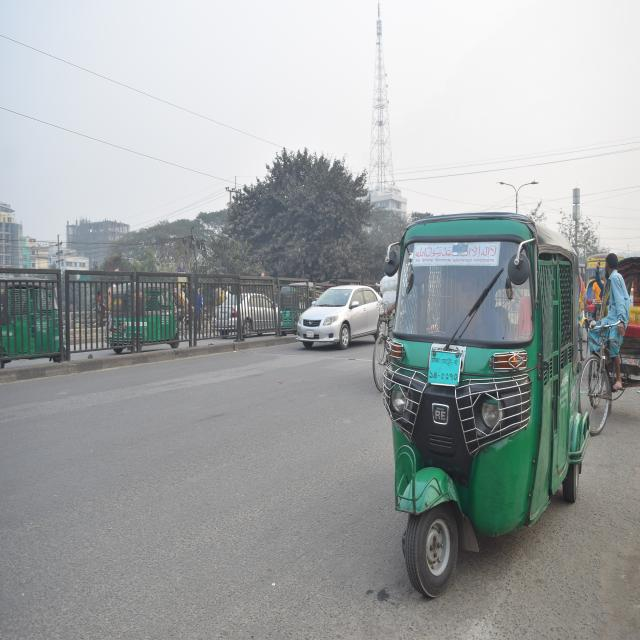car: (296, 268, 379, 363)
